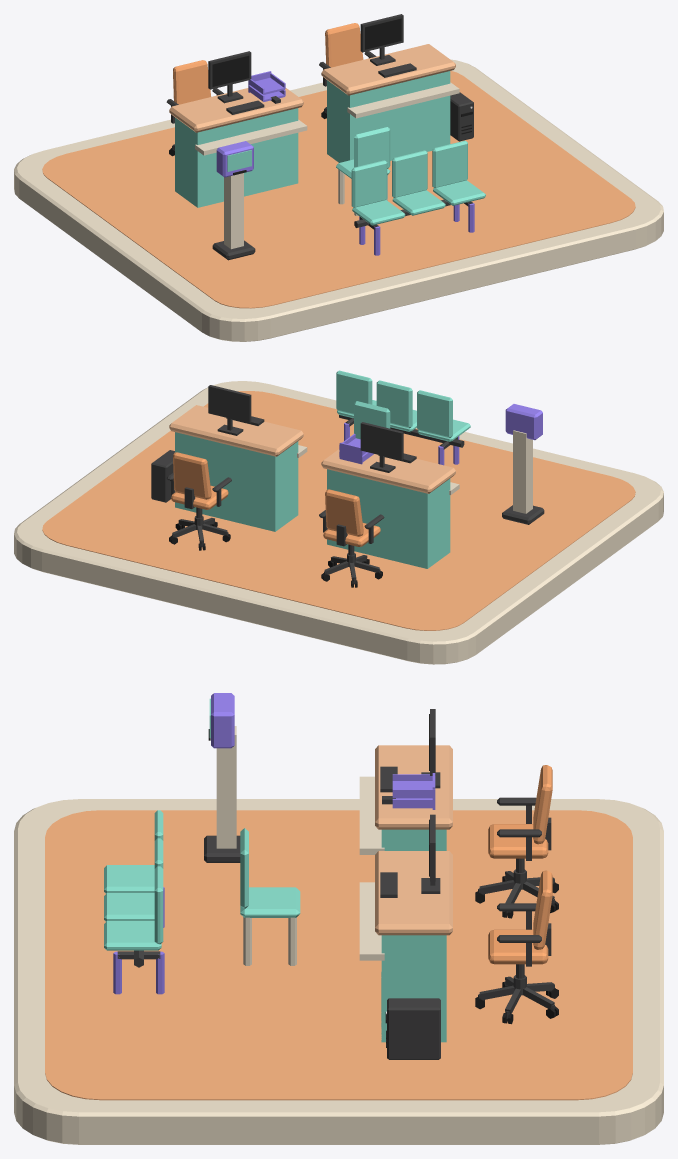
Rendered from room.fbx.
3 views of the same model, one above another, from view 1: azimuth 30°, elevation 25°; view 2: azimuth 150°, elevation 25°; view 3: azimuth 270°, elevation 25° (orthographic). The views are drawn at different scales.
Visible parts, largest first — view 1: COM-02 Floor Surface, COM-01 Rounded Base Direct, Counter body.001, Counter body, Countertop.001, Countertop, COM-04_Chair_blender_direct, COM-04_Chair_blender_direct.001, Frame.001, Frame, Back, Back.001 (+11 smaller); view 2: COM-02 Floor Surface, COM-01 Rounded Base Direct, Counter body.001, Counter body, COM-04_Chair_blender_direct.001, COM-04_Chair_blender_direct, Countertop.001, Countertop, Pedestal, Frame.001, Frame, Back (+6 smaller); view 3: COM-02 Floor Surface, COM-01 Rounded Base Direct, Countertop.001, COM-04_Chair_blender_direct.001, COM-04_Chair_blender_direct, Counter body.001, Countertop, Tower, Pedestal, Seat.003, Seat.002, Visitor shelf.001 (+9 smaller).
Part boxes in pixels (<box>): COM-02 Floor Surface: <box>42,71,635,308</box>; COM-01 Rounded Base Direct: <box>14,59,663,341</box>; Counter body.001: <box>327,71,450,162</box>; Counter body: <box>175,108,298,207</box>; Countertop.001: <box>321,44,455,95</box>; Countertop: <box>169,88,303,132</box>; COM-04_Chair_blender_direct: <box>166,60,223,156</box>; COM-04_Chair_blender_direct.001: <box>319,23,376,118</box>; Frame.001: <box>360,14,403,65</box>; Frame: <box>208,51,251,103</box>; Back: <box>351,160,387,207</box>; Back.001: <box>392,150,427,197</box>; COM-02 Floor Surface: <box>42,391,635,630</box>; COM-01 Rounded Base Direct: <box>14,381,663,664</box>; Counter body.001: <box>175,432,298,531</box>; Counter body: <box>327,469,450,568</box>; COM-04_Chair_blender_direct.001: <box>166,452,231,550</box>; COM-04_Chair_blender_direct: <box>319,489,384,587</box>; Countertop.001: <box>169,405,303,456</box>; Countertop: <box>321,449,455,493</box>; Pedestal: <box>513,430,532,513</box>; Frame.001: <box>208,385,251,435</box>; Frame: <box>360,422,403,472</box>; Back: <box>417,390,452,437</box>; COM-02 Floor Surface: <box>45,810,632,1100</box>; COM-01 Rounded Base Direct: <box>14,799,663,1144</box>; Countertop.001: <box>375,851,452,935</box>; COM-04_Chair_blender_direct.001: <box>475,870,558,1024</box>; COM-04_Chair_blender_direct: <box>475,765,558,918</box>; Counter body.001: <box>381,935,446,1042</box>; Countertop: <box>375,745,452,829</box>; Tower: <box>387,998,440,1059</box>; Pedestal: <box>216,726,236,848</box>; Seat.003: <box>240,887,300,917</box>; Seat.002: <box>104,921,161,950</box>; Visitor shelf.001: <box>359,882,384,960</box>.
Bounding box in the file's own units: 600 × 187 × 520.
